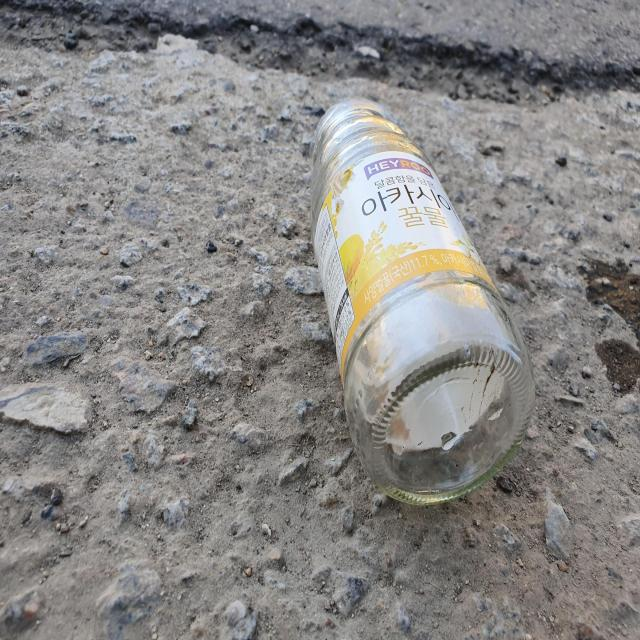glass: (312, 99, 536, 504)
